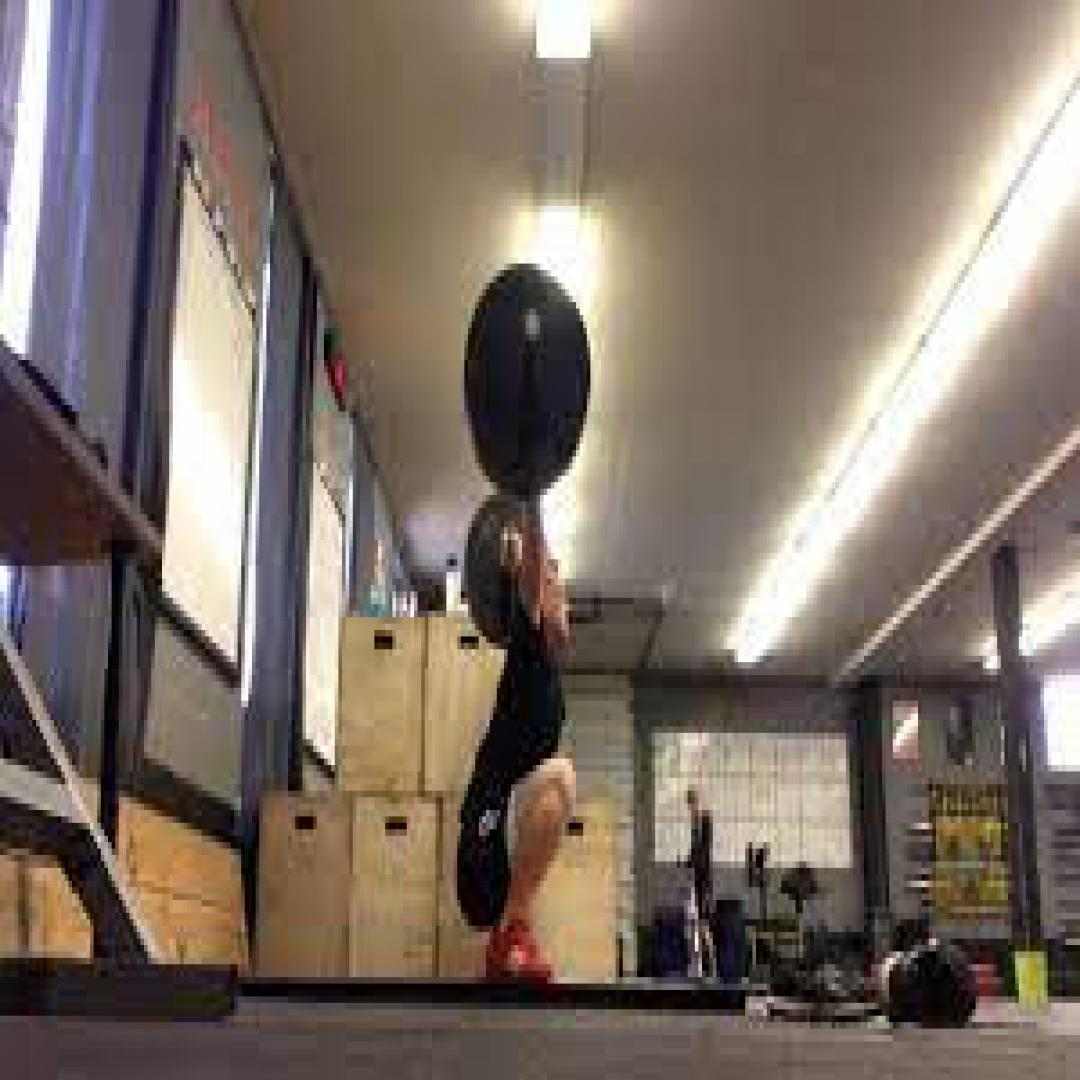Bar: (522, 309, 544, 347)
Barbell: (464, 264, 587, 495)
